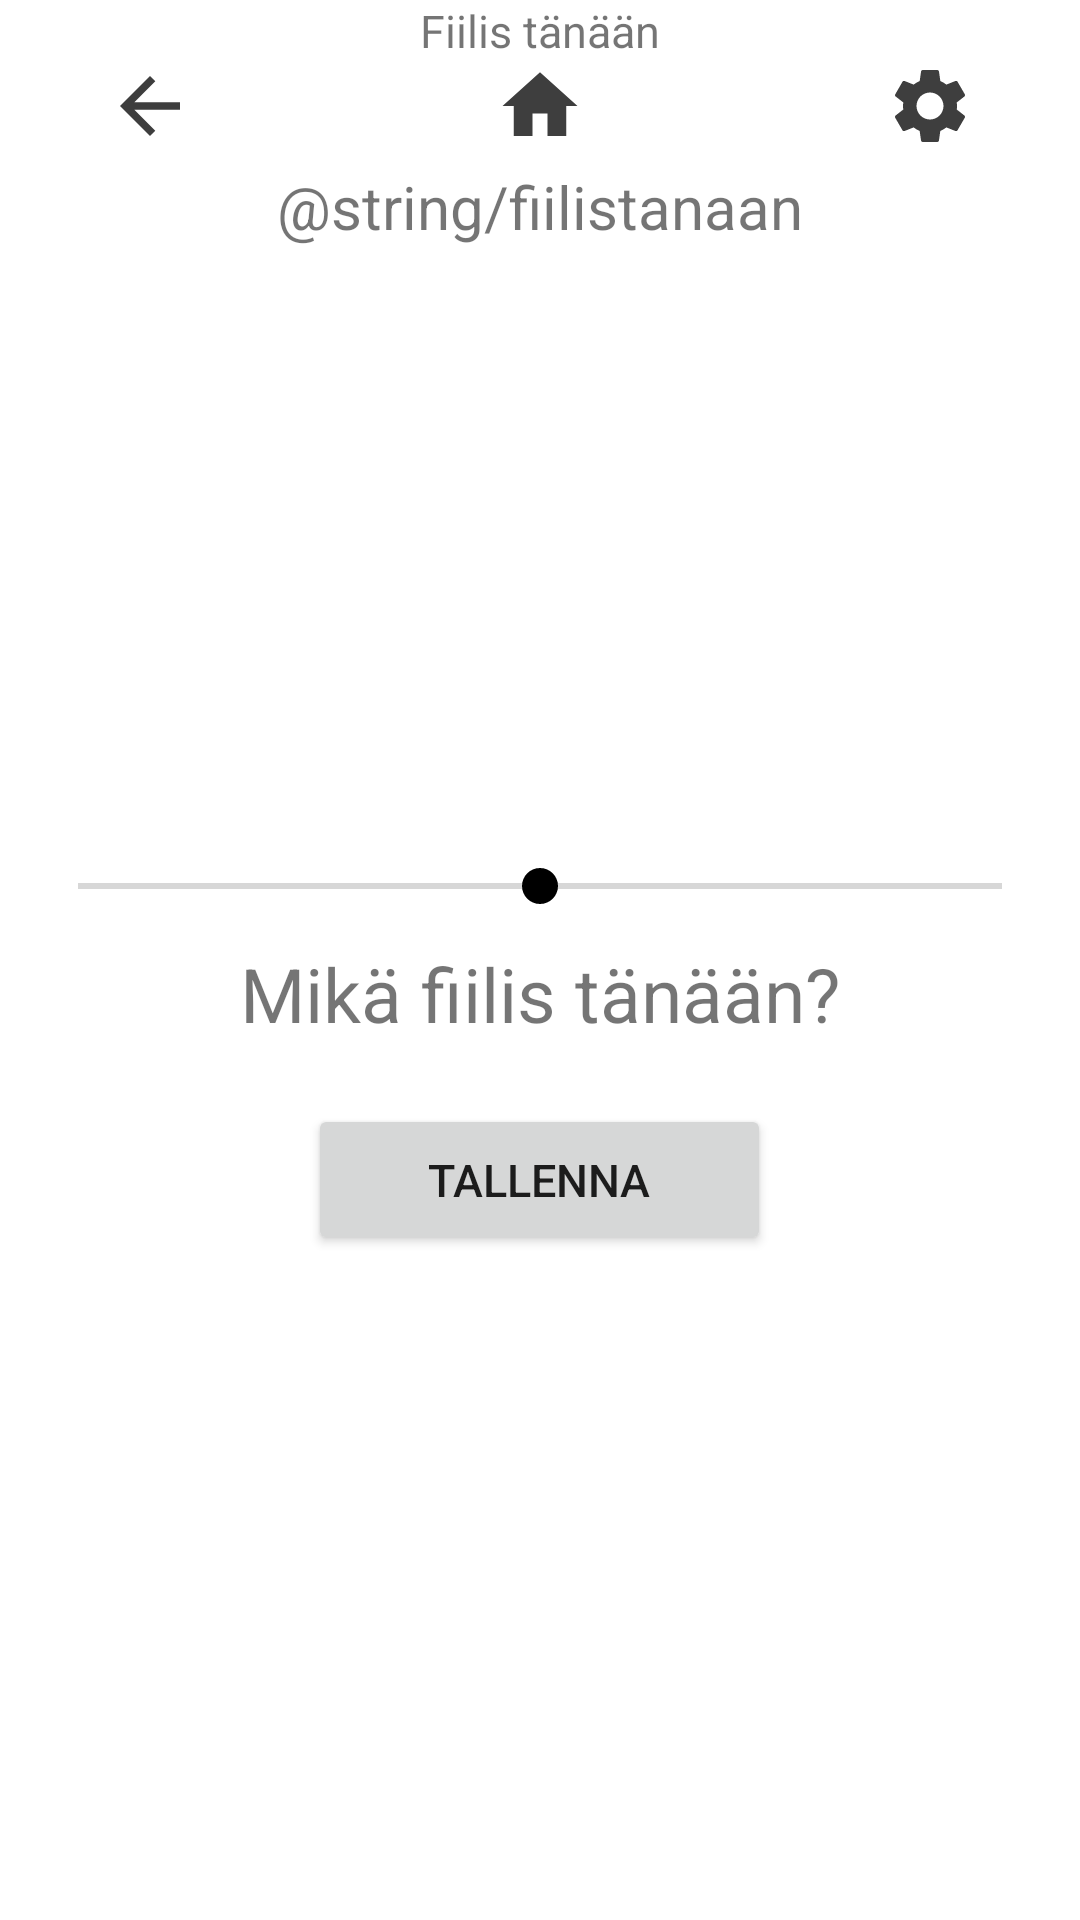

Where icons sit on this 1080 × 1920 app screen, as (x1, y1, x2, y2):
Asetukset: (895, 70, 965, 142)
Koti: (503, 72, 577, 136)
Takaisin: (120, 76, 180, 136)
